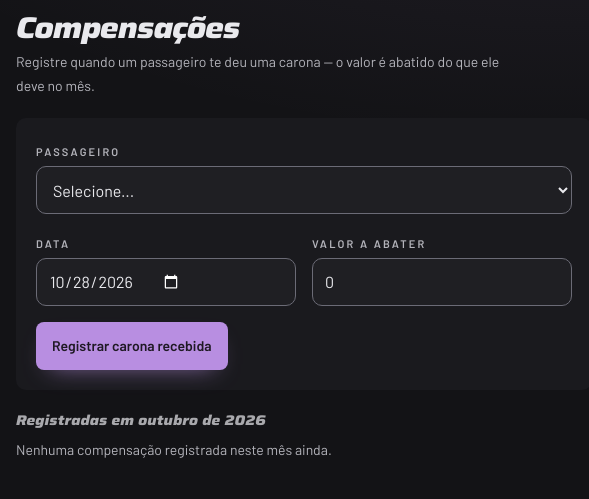
page date and competence regressions › compensation blocks future date even without native max validation
The width and height of the screenshot is (589, 499).
Type "9999-01-01" into the date field labelled "Data" at point(166, 282), box left=36, top=258, right=296, bottom=306
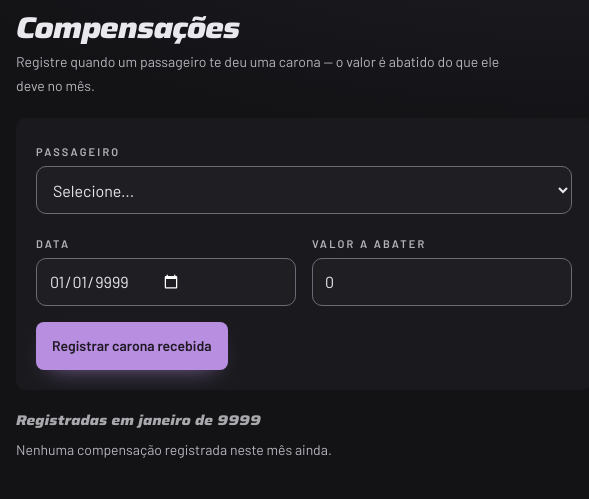
Select "Synthetic passenger" in the dropdown labelled "Passageiro" at point(304, 190), box left=36, top=166, right=572, bottom=214
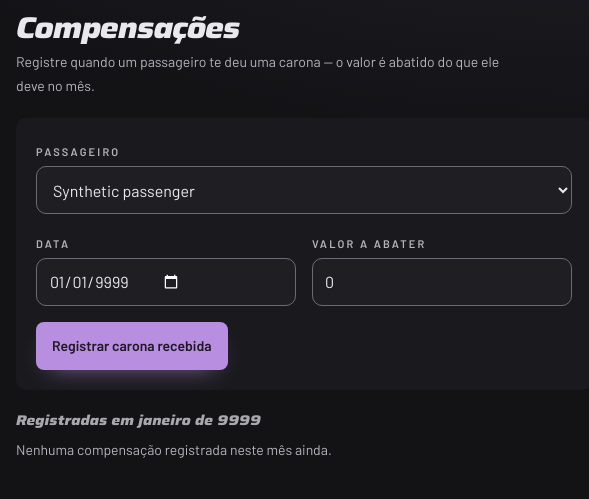
Replace the text in the number field labelled "Valor a abater" with "10" at point(442, 282), box left=312, top=258, right=572, bottom=306
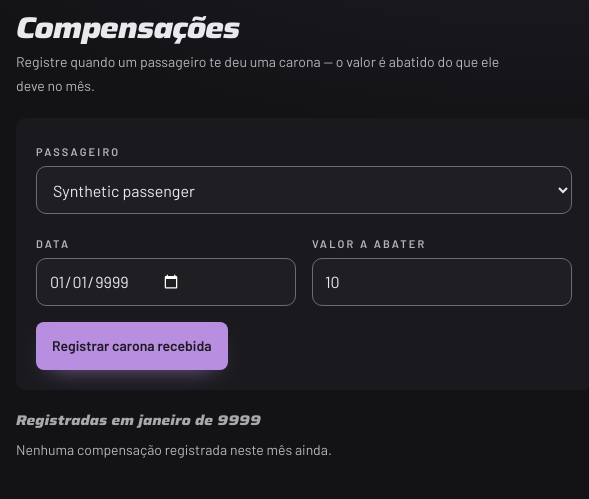
Click the button "Registrar carona recebida" at point(132, 346), box left=36, top=322, right=228, bottom=370
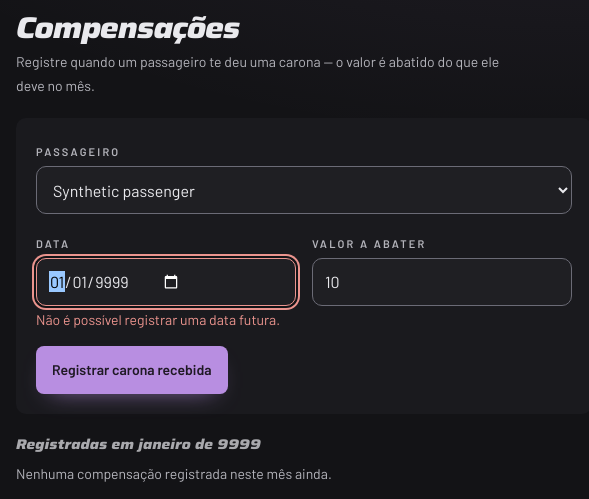
expect the text "Não é possível registrar uma data futura." is shown: met, box left=36, top=310, right=296, bottom=330
